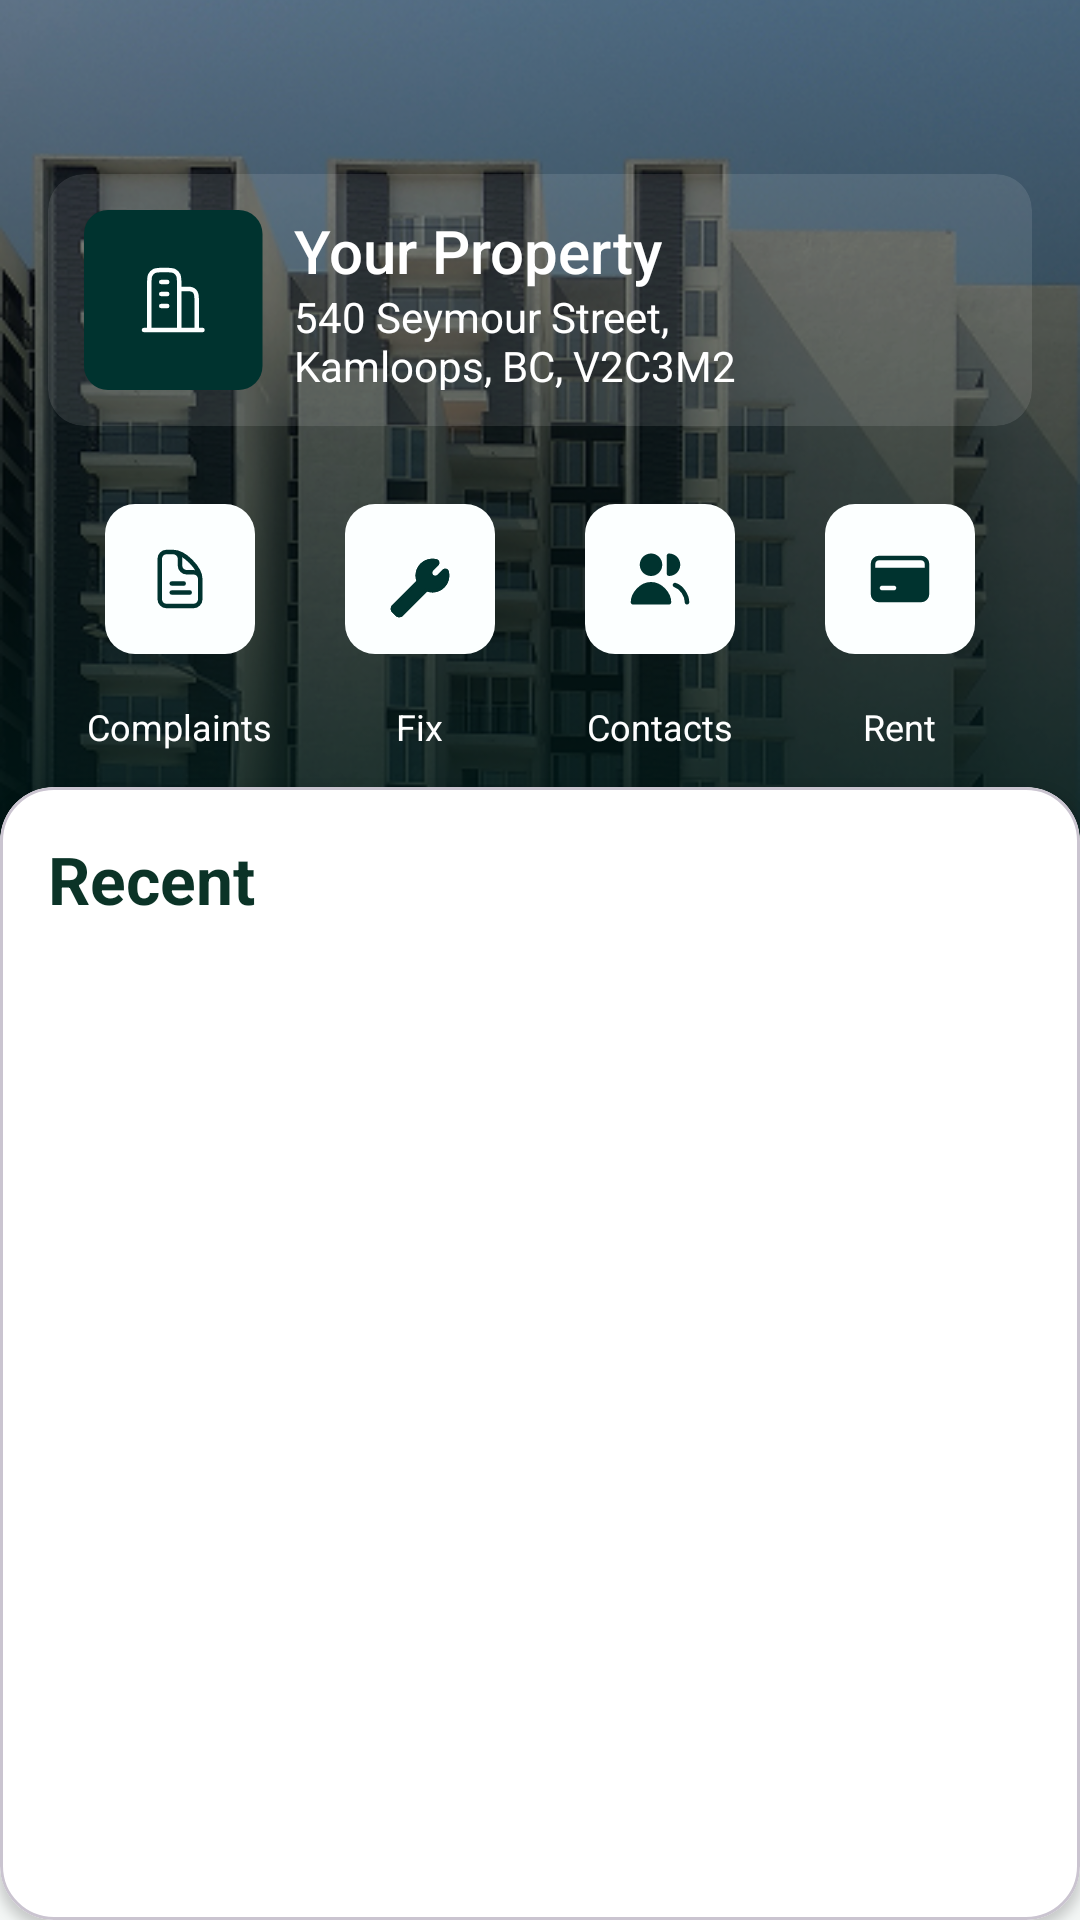

Icon click points for this 1080 x 1920 phone screenshot, format (x=x, y=y):
address: (x=174, y=300)
